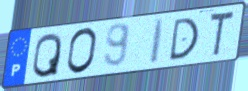9: (103, 22, 132, 73)
D: (167, 15, 201, 63)
I: (148, 17, 168, 66)
O: (65, 26, 99, 76)
Q: (30, 31, 64, 80)
T: (207, 9, 236, 58)
